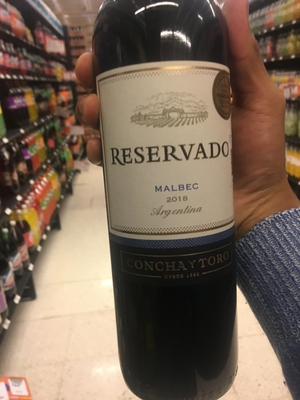reservado malbec: (94, 6, 249, 399)
